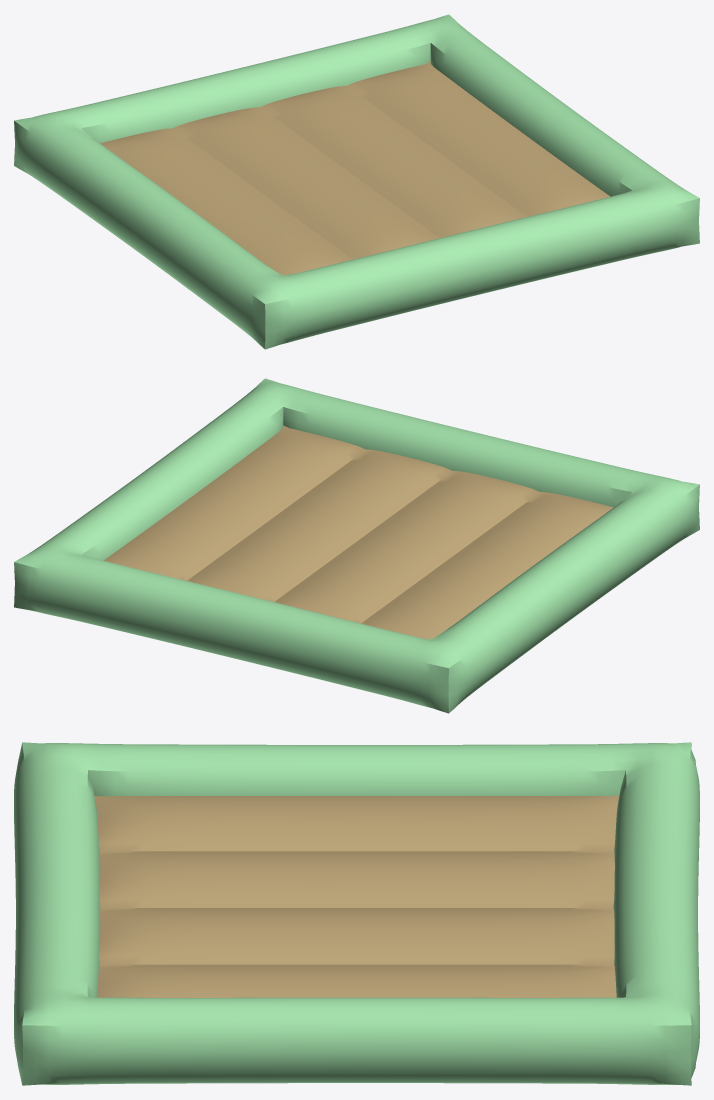
File: Floor2.fbx
3 renders of one model, top to bottom at view 1: azimuth 30°, elevation 25°; view 2: azimuth 150°, elevation 25°; view 3: azimuth 270°, elevation 25°, orthographic. The views are drawn at different scales.
Parts seen in each view (by area): view 1: Floor(2)(Bake); view 2: Floor(2)(Bake); view 3: Floor(2)(Bake).
Part boxes in pixels (x1,y1,x2,y2): Floor(2)(Bake): (14,14,699,349); Floor(2)(Bake): (14,378,699,713); Floor(2)(Bake): (14,742,699,1085).
Bounding box in the file's own units: 1023 × 131 × 1023.
